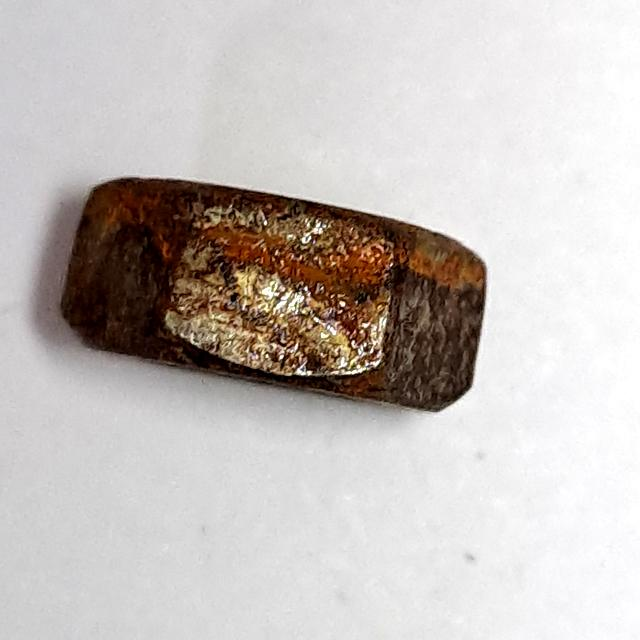Side_Rust: (45, 154, 504, 429)
